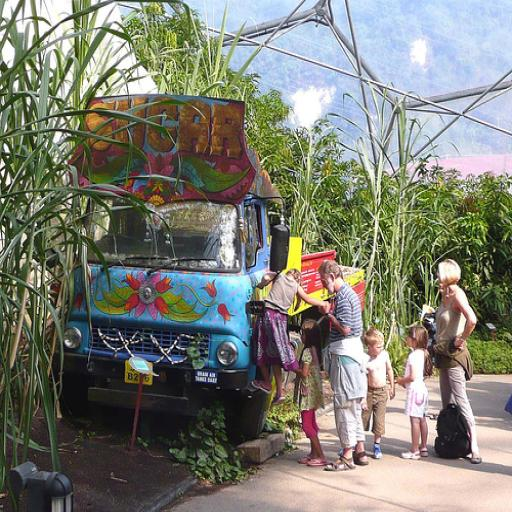person: (250, 268, 328, 406), (320, 261, 368, 470), (434, 256, 482, 462), (293, 317, 328, 466), (397, 324, 431, 460), (362, 326, 397, 458)
vehicle: (54, 94, 371, 438)
